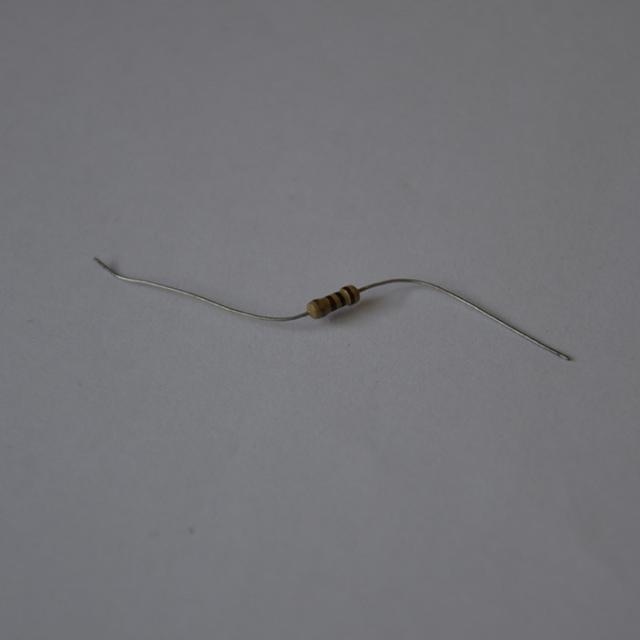black: (334, 293, 346, 306)
brown: (343, 285, 357, 303), (327, 295, 337, 310)
gold: (314, 299, 325, 315)
resistor: (297, 274, 369, 329)
